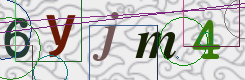4: (192, 18, 222, 61)
6: (4, 17, 31, 59)
j: (92, 11, 120, 62)
m: (135, 31, 176, 60)
y: (45, 13, 76, 58)
